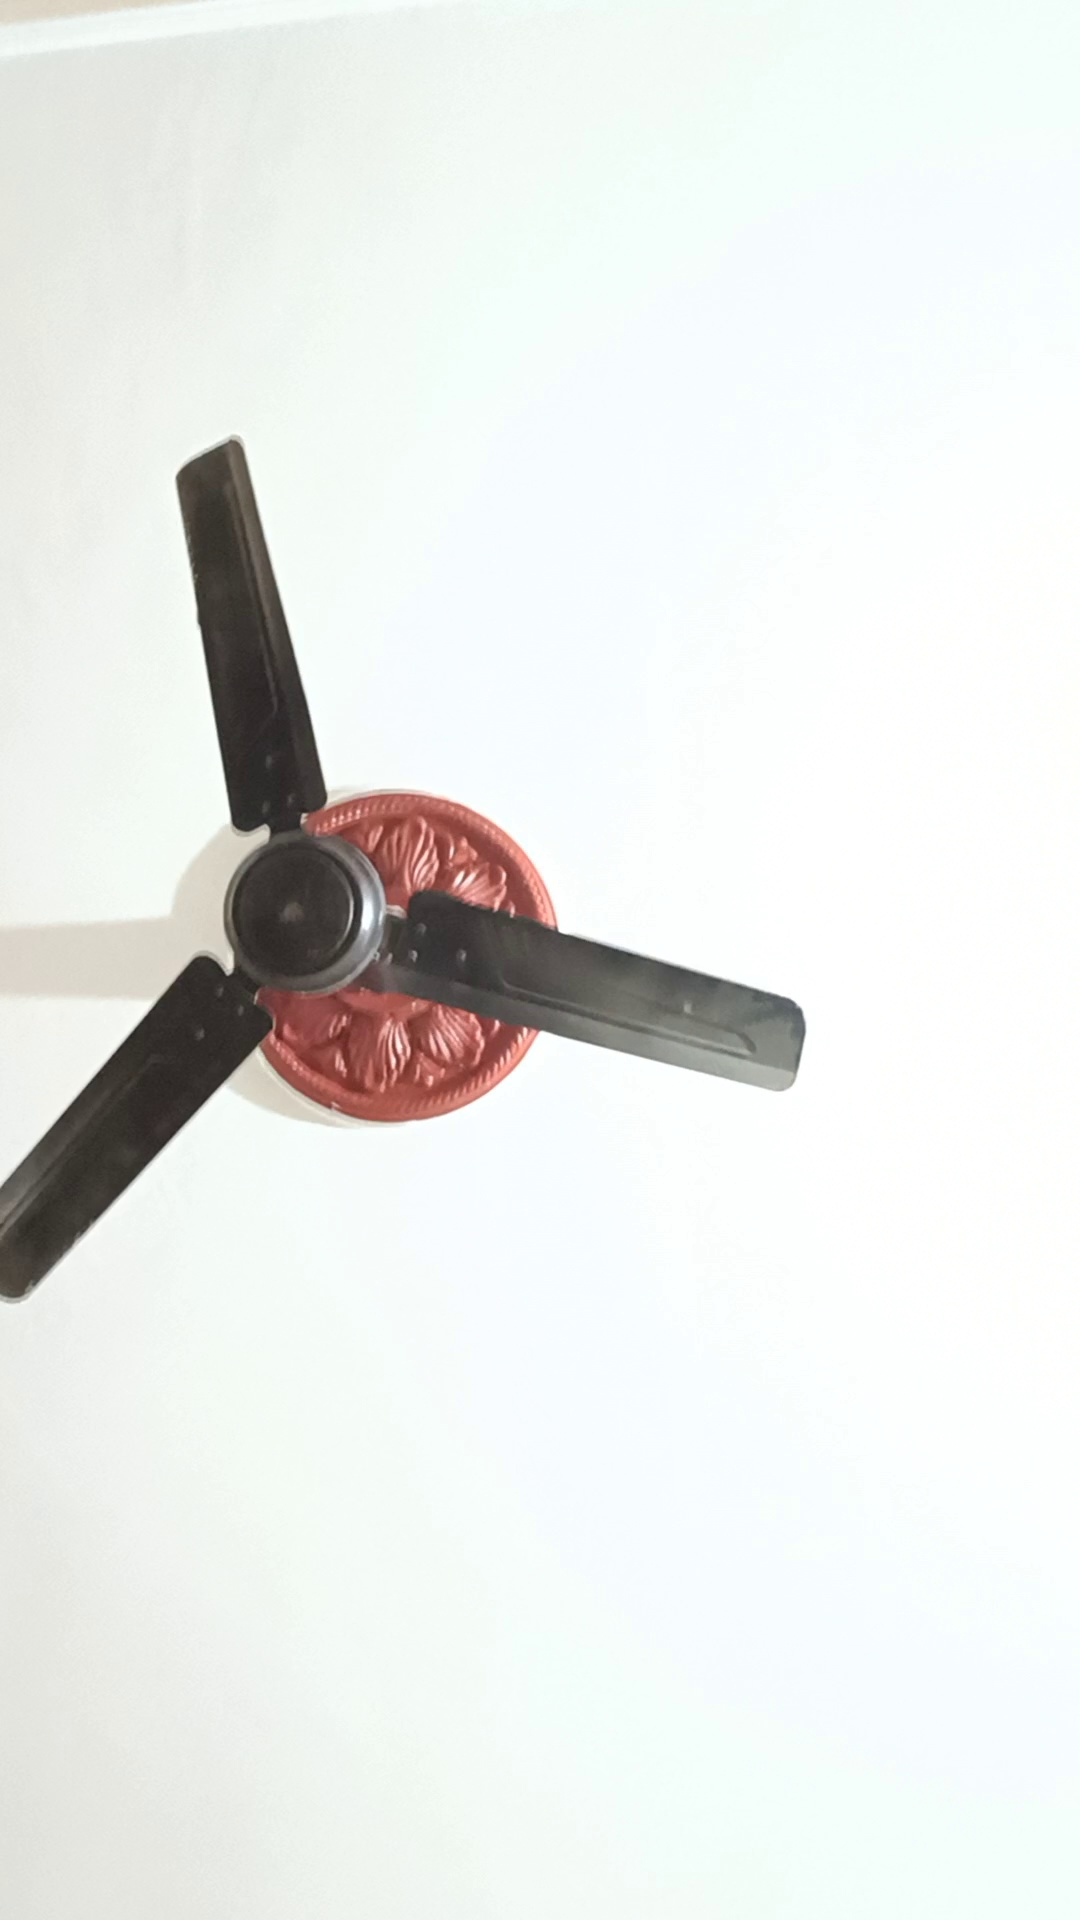fan: (1, 436, 847, 1331)
